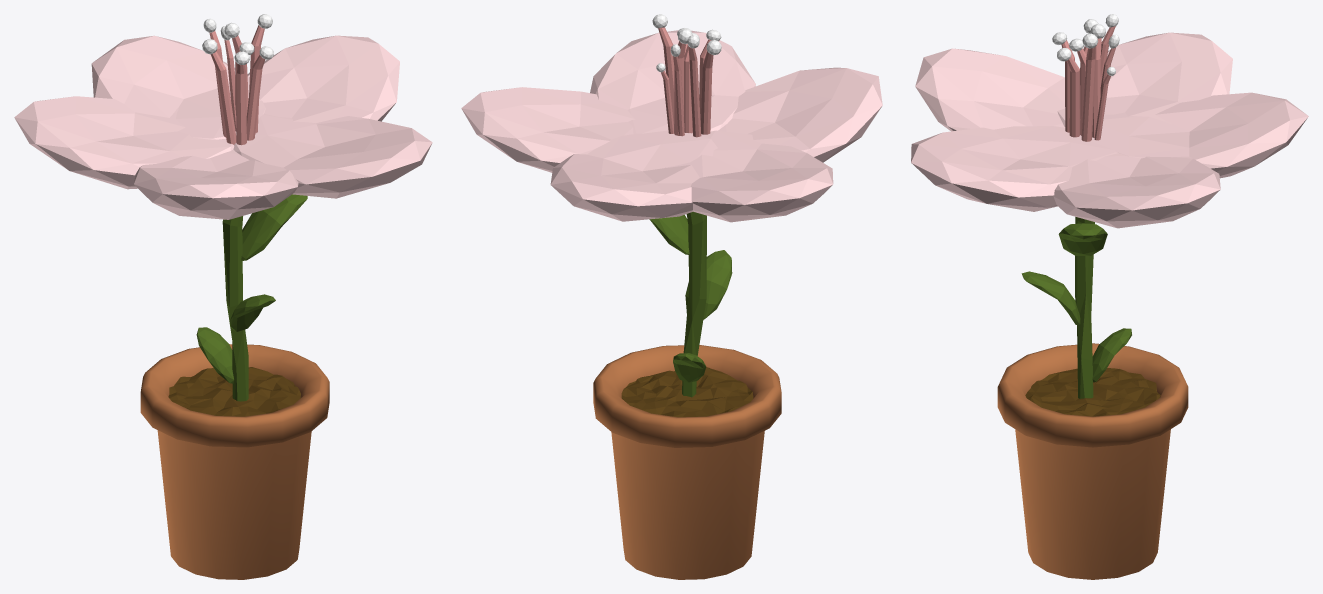
Rendered from flower1.glb.
The picture shows the model from 3 angles, left to right: view 1: azimuth 30°, elevation 25°; view 2: azimuth 150°, elevation 25°; view 3: azimuth 270°, elevation 25°; orthographic projection.
Visible parts, largest first — view 1: Icosphere.002, Cylinder.009, Circle.001, Icosphere.023, Cylinder, Cylinder.005, Cylinder.001, Cylinder.002; view 2: Icosphere.002, Cylinder.009, Circle.001, Icosphere.023, Cylinder, Cylinder.005, Cylinder.004, Cylinder.007, Cylinder.000, Cylinder.003; view 3: Icosphere.002, Cylinder.009, Circle.001, Icosphere.023, Cylinder, Cylinder.007, Cylinder.001, Cylinder.008.
Part boxes in pixels (x1=…): Icosphere.002: x1=14, y1=35, x2=432, y2=219; Cylinder.009: x1=140, y1=344, x2=329, y2=579; Circle.001: x1=168, y1=367, x2=300, y2=416; Icosphere.023: x1=196, y1=194, x2=307, y2=383; Cylinder: x1=222, y1=216, x2=248, y2=401; Cylinder.005: x1=210, y1=51, x2=236, y2=144; Cylinder.001: x1=246, y1=55, x2=265, y2=140; Cylinder.002: x1=235, y1=63, x2=246, y2=145; Icosphere.002: x1=461, y1=30, x2=882, y2=222; Cylinder.009: x1=593, y1=345, x2=781, y2=579; Circle.001: x1=621, y1=367, x2=753, y2=417; Icosphere.023: x1=649, y1=215, x2=732, y2=382; Cylinder: x1=682, y1=211, x2=706, y2=397; Cylinder.005: x1=701, y1=51, x2=713, y2=134; Cylinder.004: x1=688, y1=45, x2=701, y2=137; Cylinder.007: x1=658, y1=27, x2=674, y2=124; Cylinder.000: x1=684, y1=45, x2=692, y2=133; Cylinder.003: x1=673, y1=56, x2=684, y2=136; Icosphere.002: x1=911, y1=32, x2=1308, y2=228; Cylinder.009: x1=997, y1=343, x2=1188, y2=579; Circle.001: x1=1025, y1=368, x2=1160, y2=416; Icosphere.023: x1=1021, y1=223, x2=1131, y2=382; Cylinder: x1=1075, y1=217, x2=1094, y2=398; Cylinder.007: x1=1081, y1=46, x2=1096, y2=141; Cylinder.001: x1=1066, y1=56, x2=1080, y2=137; Cylinder.008: x1=1092, y1=38, x2=1101, y2=137.
Bounding box in the file's own units: 2.2 × 3.13 × 2.12.
